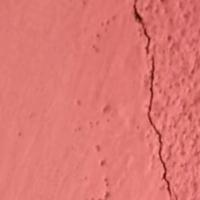crack: (128, 1, 177, 199)
